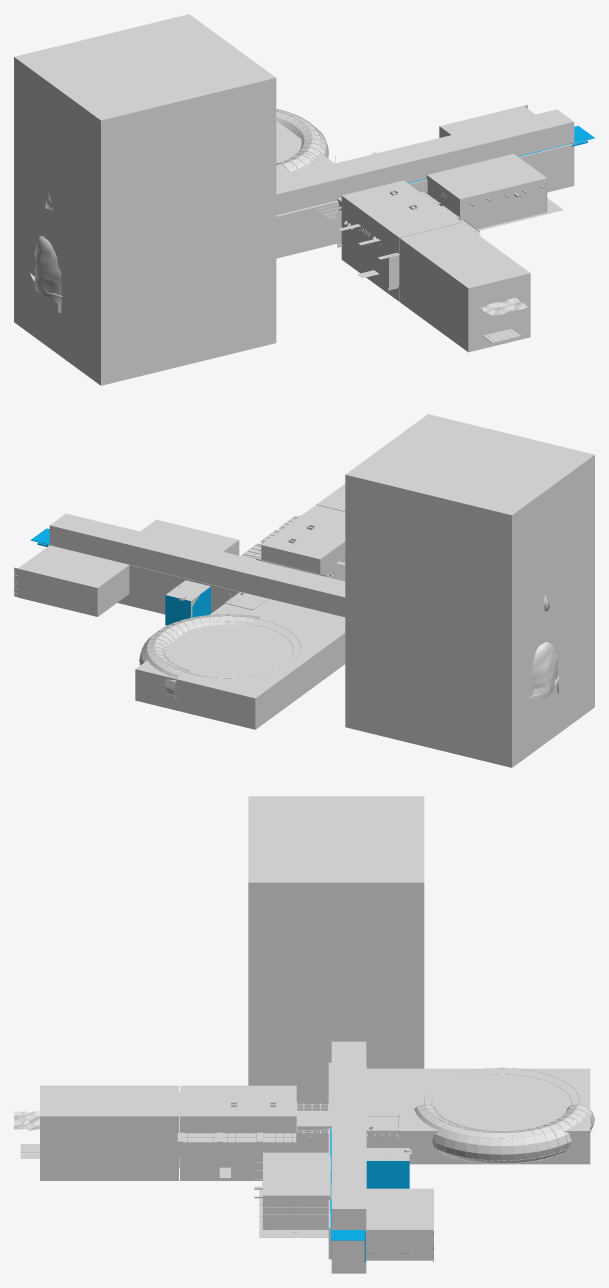
The model's file is SM_Interior2.glb.
3 renders of one model, top to bottom at view 1: azimuth 30°, elevation 25°; view 2: azimuth 150°, elevation 25°; view 3: azimuth 270°, elevation 25°, orthographic. The views are drawn at different scales.
Visible parts, largest first — view 1: LZONE_CaveMain1, SNDVOL_Ambience_EntryHall1, SNDVOL_Ambience_CaveWindy1, LZONE_StaffRoom1, SNDVOL_Ambience_Cave1, LZONE_FacilityCorridor, LZONE_EntryHall, SM_TokMakCase, SM_CaveGeo2, LZONE_Observation1, LZONE_PowerBusControl, SM_RockWall1.006; view 2: LZONE_CaveMain1, LZONE_Observation1, SNDVOL_Ambience_CaveWindy1, LZONE_PowerBusControl, SNDVOL_Ambience_Cave1, SM_TokMakCase, LZONE_FacilityCorridor, LZONE_StaffRoom1, SM_CaveGeo2, SM_Interior2_convcolonly_075; view 3: LZONE_CaveMain1, LZONE_Observation1, SNDVOL_Ambience_EntryHall1, SNDVOL_Ambience_CaveWindy1, SNDVOL_Ambience_Cave1, SM_TokMakCase, LZONE_StaffRoom1, LZONE_PowerBusControl, LZONE_EntryHall, LZONE_FacilitySubCorridor, SM_Interior2_convcolonly_074, CoreObservatioCage.
Boxes of the visible parts, x1=… form: LZONE_CaveMain1: x1=14, y1=14, x2=276, y2=385; SNDVOL_Ambience_EntryHall1: x1=399, y1=223, x2=530, y2=352; SNDVOL_Ambience_CaveWindy1: x1=276, y1=109, x2=574, y2=258; LZONE_StaffRoom1: x1=426, y1=154, x2=547, y2=229; SNDVOL_Ambience_Cave1: x1=341, y1=180, x2=461, y2=301; LZONE_FacilityCorridor: x1=276, y1=144, x2=571, y2=247; LZONE_EntryHall: x1=341, y1=212, x2=399, y2=288; SM_TokMakCase: x1=276, y1=109, x2=328, y2=172; SM_CaveGeo2: x1=34, y1=192, x2=61, y2=312; LZONE_Observation1: x1=276, y1=121, x2=334, y2=177; LZONE_PowerBusControl: x1=439, y1=105, x2=535, y2=137; SM_RockWall1.006: x1=479, y1=297, x2=527, y2=315; LZONE_CaveMain1: x1=345, y1=414, x2=594, y2=767; LZONE_Observation1: x1=135, y1=592, x2=345, y2=729; SNDVOL_Ambience_CaveWindy1: x1=49, y1=513, x2=345, y2=617; LZONE_PowerBusControl: x1=17, y1=545, x2=129, y2=616; SNDVOL_Ambience_Cave1: x1=261, y1=505, x2=345, y2=581; SM_TokMakCase: x1=139, y1=614, x2=259, y2=697; LZONE_FacilityCorridor: x1=129, y1=565, x2=344, y2=617; LZONE_StaffRoom1: x1=140, y1=519, x2=239, y2=555; SM_CaveGeo2: x1=531, y1=595, x2=558, y2=700; SM_Interior2_convcolonly_075: x1=165, y1=595, x2=190, y2=625; LZONE_CaveMain1: x1=248, y1=796, x2=424, y2=1110; LZONE_Observation1: x1=366, y1=1068, x2=590, y2=1164; SNDVOL_Ambience_EntryHall1: x1=40, y1=1085, x2=178, y2=1180; SNDVOL_Ambience_CaveWindy1: x1=331, y1=1041, x2=366, y2=1273; SNDVOL_Ambience_Cave1: x1=180, y1=1085, x2=296, y2=1180; SM_TokMakCase: x1=414, y1=1104, x2=594, y2=1164; LZONE_StaffRoom1: x1=263, y1=1152, x2=330, y2=1229; LZONE_PowerBusControl: x1=366, y1=1188, x2=433, y2=1260; LZONE_EntryHall: x1=179, y1=1101, x2=297, y2=1168; LZONE_FacilitySubCorridor: x1=297, y1=1111, x2=331, y2=1152; SM_Interior2_convcolonly_074: x1=366, y1=1161, x2=406, y2=1188; CoreObservatioCage: x1=366, y1=1116, x2=399, y2=1147.
Size of what is drawn, in the model's own units: 44.88 by 20.94 by 41.09.
